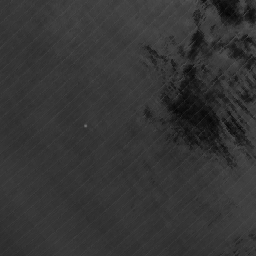Target: (82, 122, 88, 129)
